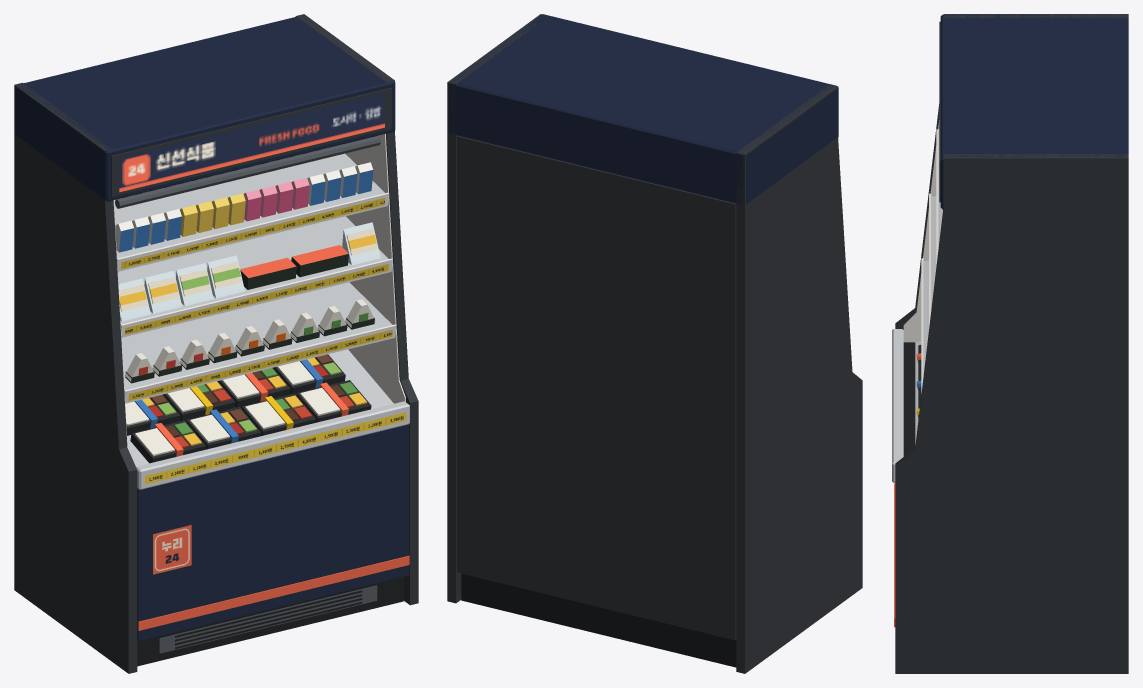
Rendered from SC_Fix_Open_Chiller.gltf.
The picture shows the model from 3 angles, left to right: view 1: azimuth 30°, elevation 25°; view 2: azimuth 150°, elevation 25°; view 3: azimuth 270°, elevation 25°; orthographic projection. The views are drawn at different scales.
Visible parts, largest first — view 1: SC_Fix_Open_Chiller; view 2: SC_Fix_Open_Chiller; view 3: SC_Fix_Open_Chiller.
Part boxes in pixels (x1,y1,x2,y2): SC_Fix_Open_Chiller: (14,14,418,673); SC_Fix_Open_Chiller: (447,14,862,673); SC_Fix_Open_Chiller: (892,14,1128,673).
Size of the model in its own units: 1.2 by 2 by 0.8335.
4 materials, 4 textured.
